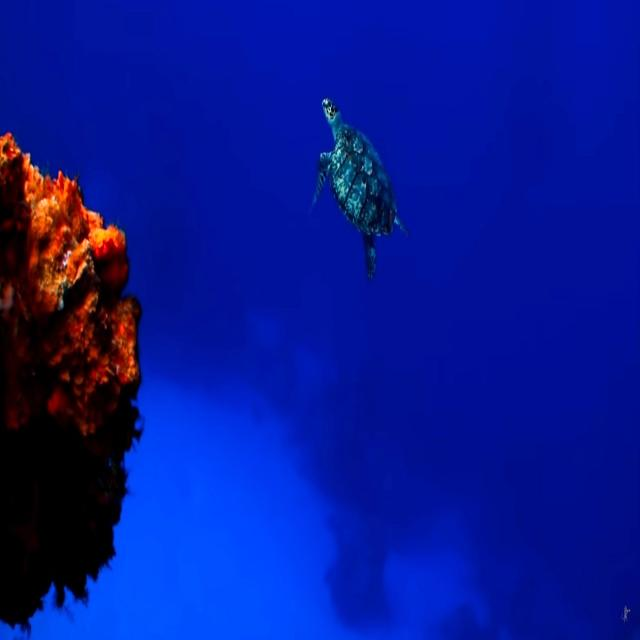Sea turtle: (310, 96, 410, 278)
